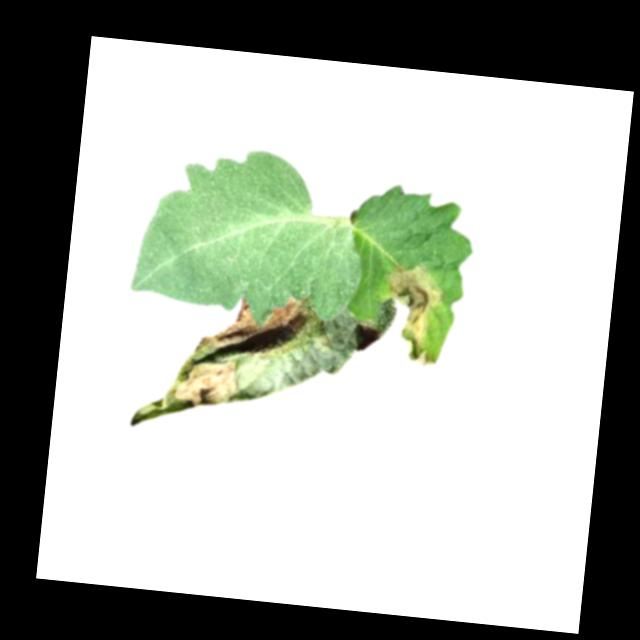Late_blight: (375, 258, 450, 368), (196, 289, 311, 355), (169, 351, 240, 410)
healthy: (127, 137, 374, 334)
